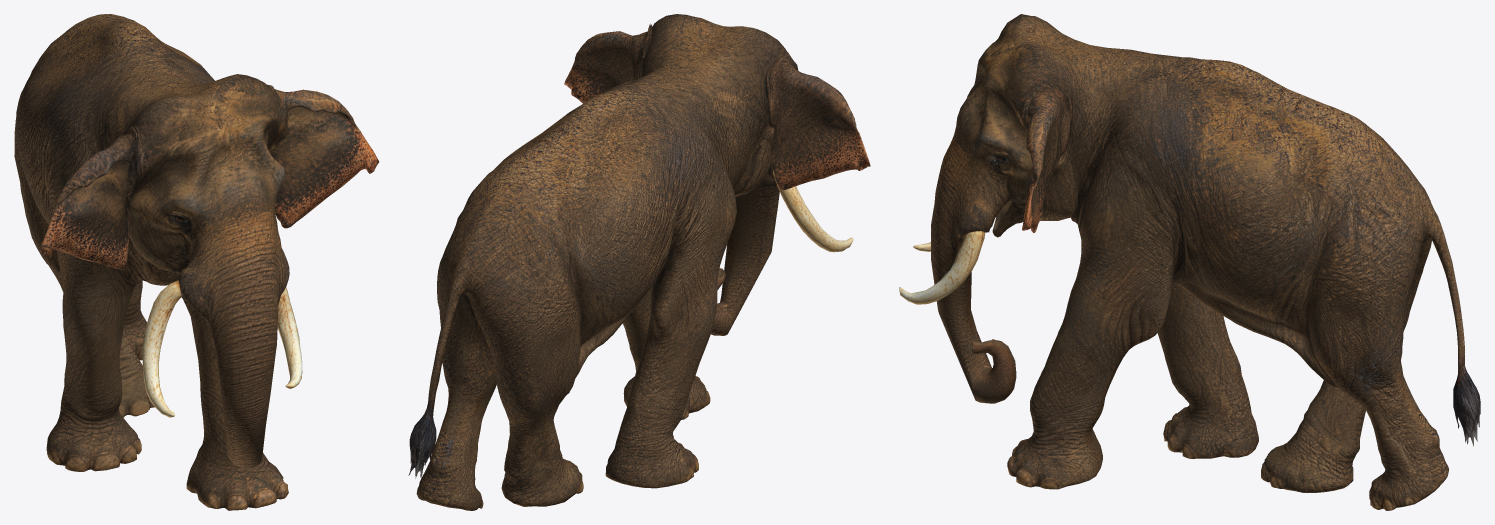
File: elephant.glb
The picture shows the model from 3 angles, left to right: view 1: azimuth 30°, elevation 25°; view 2: azimuth 150°, elevation 25°; view 3: azimuth 270°, elevation 25°; orthographic projection. The views are drawn at different scales.
Visible parts, largest first — view 1: Model_0; view 2: Model_0; view 3: Model_0.
Boxes of the visible parts, x1,y1,x2,y2 form: Model_0: [14, 14, 379, 510]; Model_0: [408, 14, 870, 510]; Model_0: [899, 14, 1480, 510].
Bounding box in the file's own units: 0.6595 × 0.8004 × 1.
1 material, 1 textured.
